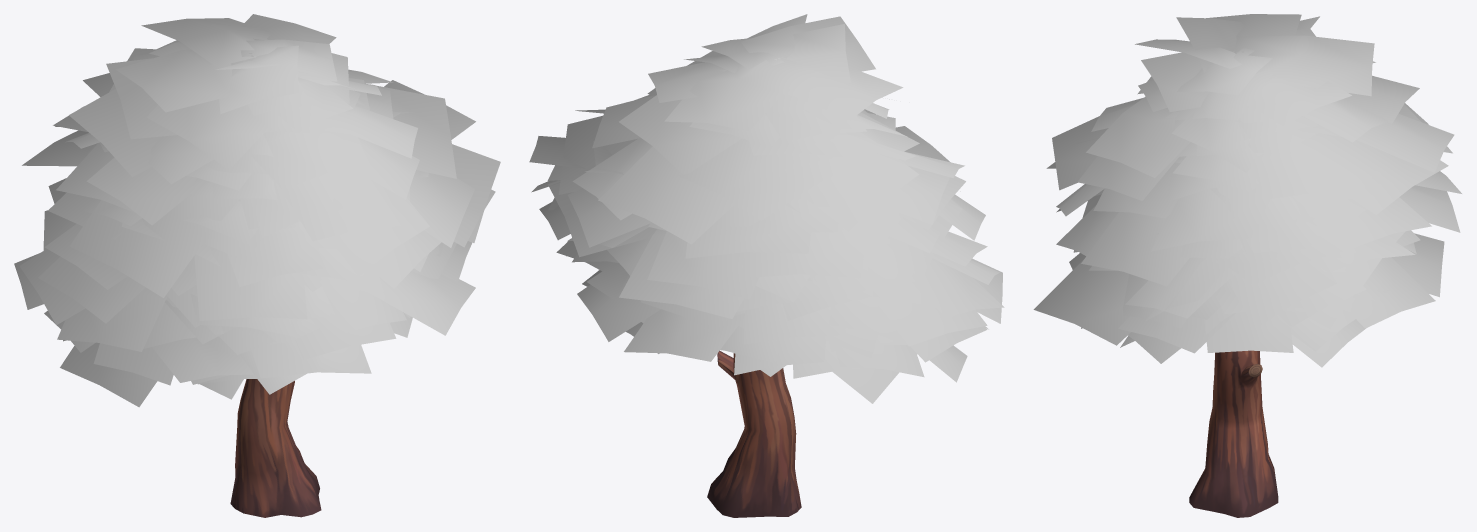
Rendered from Tree_01_R.fbx.
The picture shows the model from 3 angles, left to right: view 1: azimuth 30°, elevation 25°; view 2: azimuth 150°, elevation 25°; view 3: azimuth 270°, elevation 25°; orthographic projection. The views are drawn at different scales.
Visible parts, largest first — view 1: lll001, Tree_01; view 2: lll001, Tree_01; view 3: lll001, Tree_01.
Boxes of the visible parts, left/top/right/bottom form: lll001: left=14, top=14, right=500, bottom=407; Tree_01: left=230, top=379, right=321, bottom=517; lll001: left=529, top=14, right=1004, bottom=403; Tree_01: left=707, top=350, right=801, bottom=517; lll001: left=1033, top=14, right=1461, bottom=367; Tree_01: left=1189, top=350, right=1278, bottom=517.
Bounding box in the file's own units: 655 × 655 × 562.
